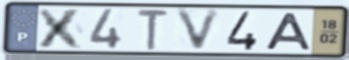4: (87, 8, 125, 51), (225, 10, 259, 52)
A: (263, 11, 314, 51)
T: (135, 8, 172, 52)
V: (173, 7, 226, 54)
X: (35, 7, 88, 51)
